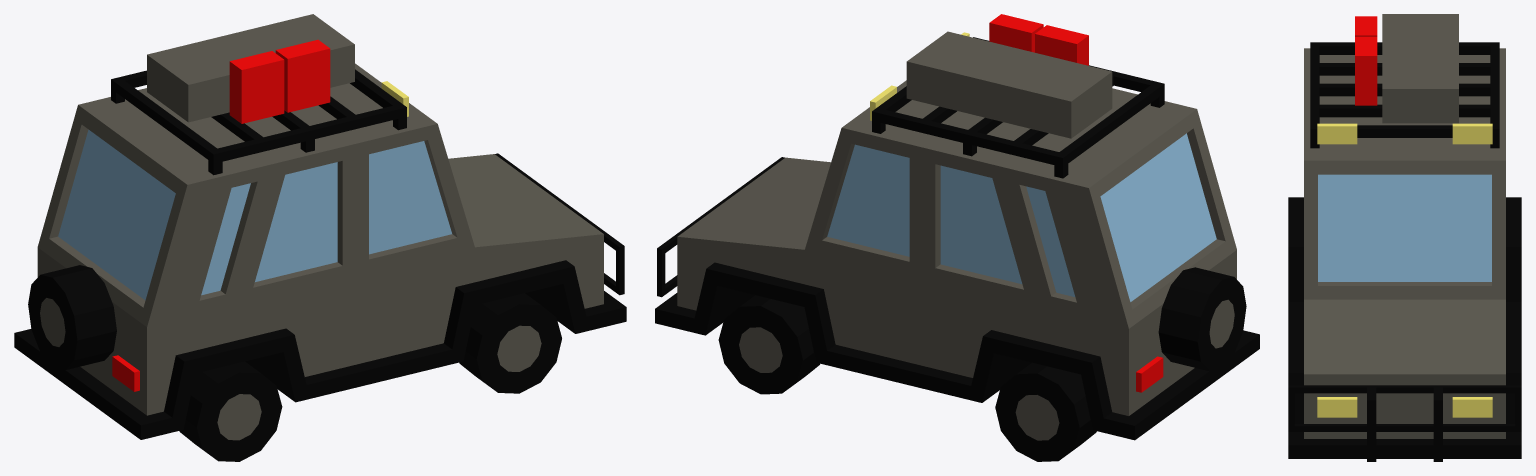
Rendered from WinterOffRoadCar_04.fbx.
3 renders of one model, left to right at view 1: azimuth 30°, elevation 25°; view 2: azimuth 150°, elevation 25°; view 3: azimuth 270°, elevation 25°, orthographic. The views are drawn at different scales.
Visible parts, largest first — view 1: WinterOffRoadCar_04; view 2: WinterOffRoadCar_04; view 3: WinterOffRoadCar_04.
Part boxes in pixels (x1=…): WinterOffRoadCar_04: x1=14, y1=14, x2=626, y2=461; WinterOffRoadCar_04: x1=655, y1=14, x2=1259, y2=461; WinterOffRoadCar_04: x1=1288, y1=14, x2=1521, y2=461.
Size of the model in its own units: 0.5791 by 0.3808 by 0.2453.
